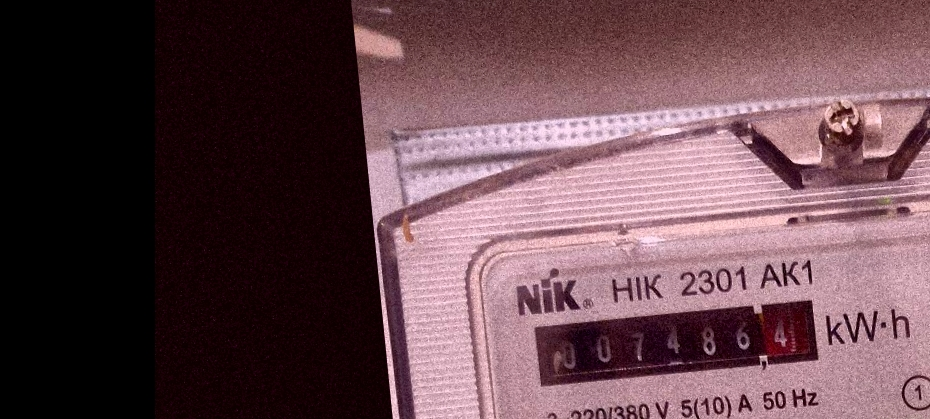0: (557, 336, 580, 372), (593, 330, 615, 365)
4: (662, 320, 683, 357), (770, 315, 790, 350)
6: (733, 318, 755, 352)
7: (625, 328, 651, 363)
8: (699, 323, 720, 359)
screen: (524, 286, 829, 399)
